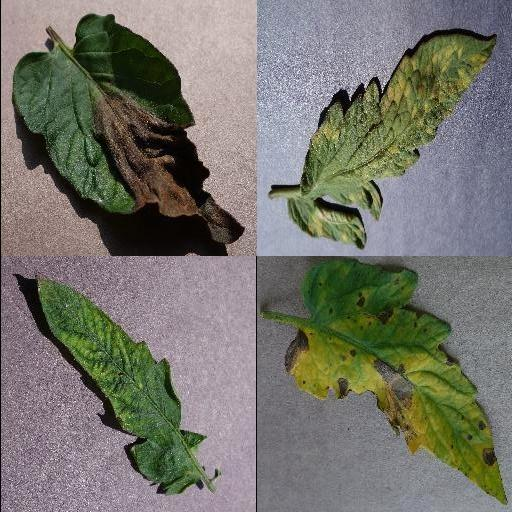Early Blight: (283, 258, 507, 506)
Late Blight: (12, 14, 246, 248)
Leaf Mold: (286, 33, 498, 250)
Mosaic Virus: (33, 269, 206, 496)
